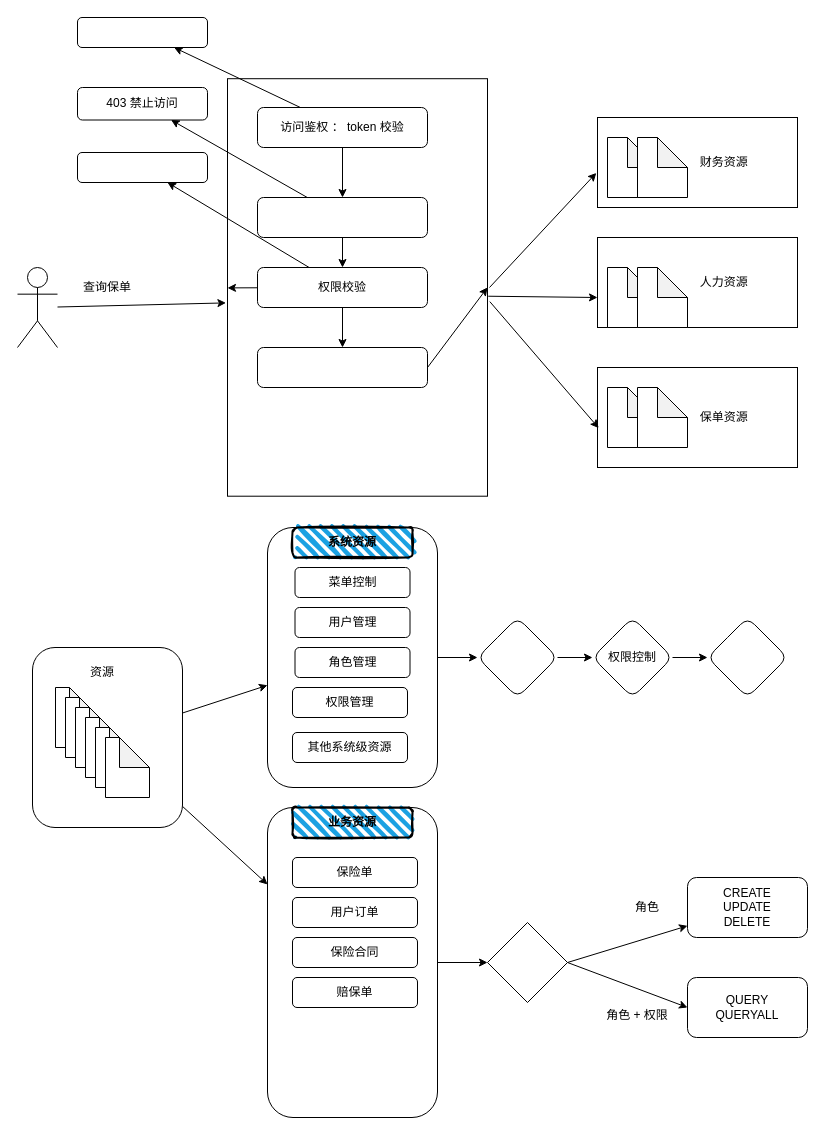
Image size: 825x1135. Some labels were removed from this diagram. Each missing label, with the centre of its shape:
401 未授权: pixel 142 167
操作类型: pixel 527 962
用户: pixel 37 307
登录: pixel 142 32
网关转发: pixel 342 367
自定义规则: pixel 747 657
角色控制: pixel 517 657
角色鉴权: pixel 342 217
